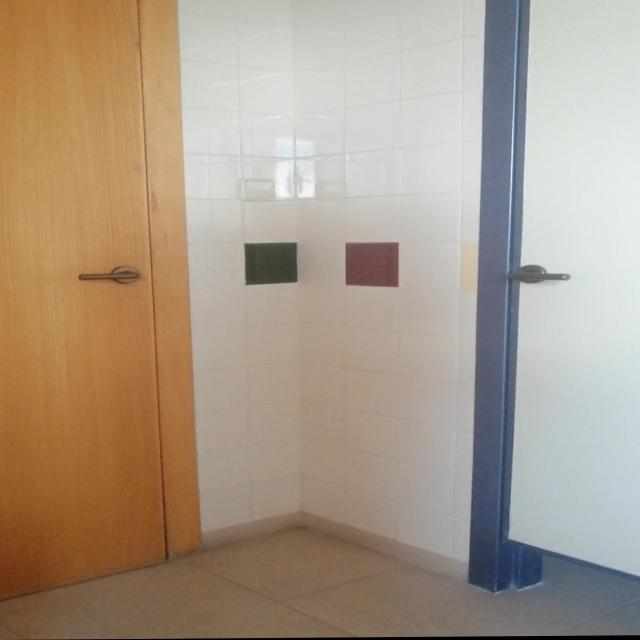door_handle: (507, 271, 574, 284), (74, 271, 142, 282)
